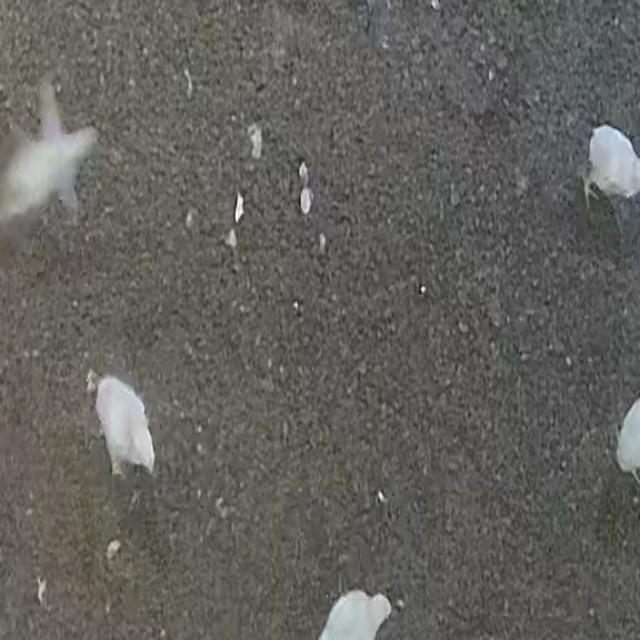chicken: (90, 377, 156, 479), (584, 111, 640, 212)
